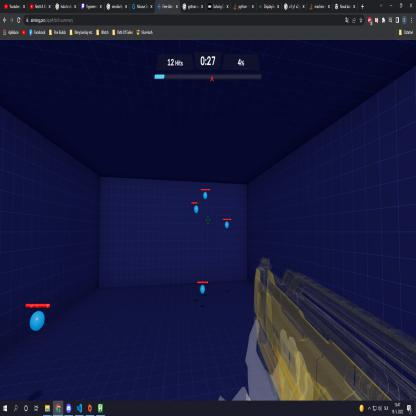sphere: (29, 309, 45, 334), (194, 204, 199, 214), (200, 284, 205, 294), (224, 221, 230, 229), (203, 191, 208, 200)
